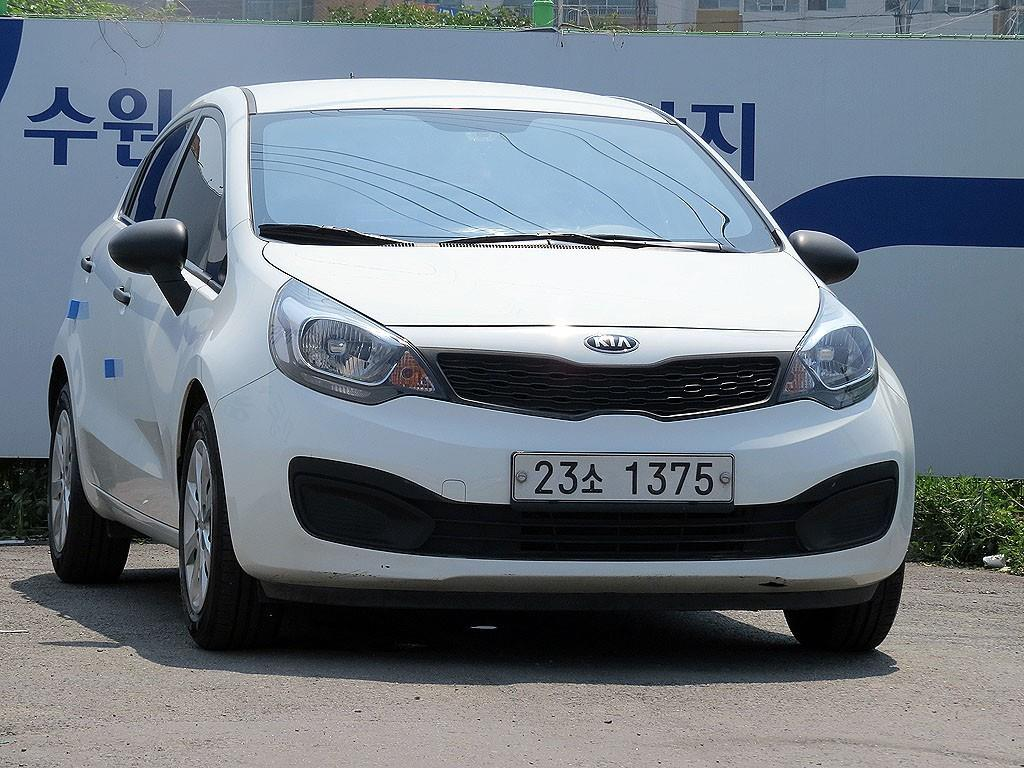plate: (513, 454, 734, 503)
